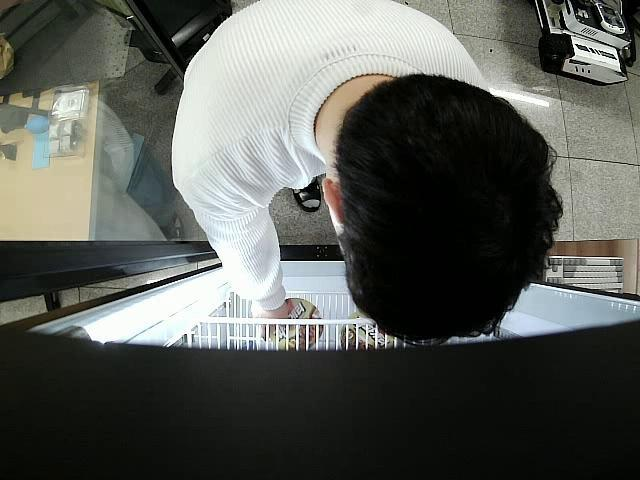03_chapagetti_L: (268, 298, 324, 350)
